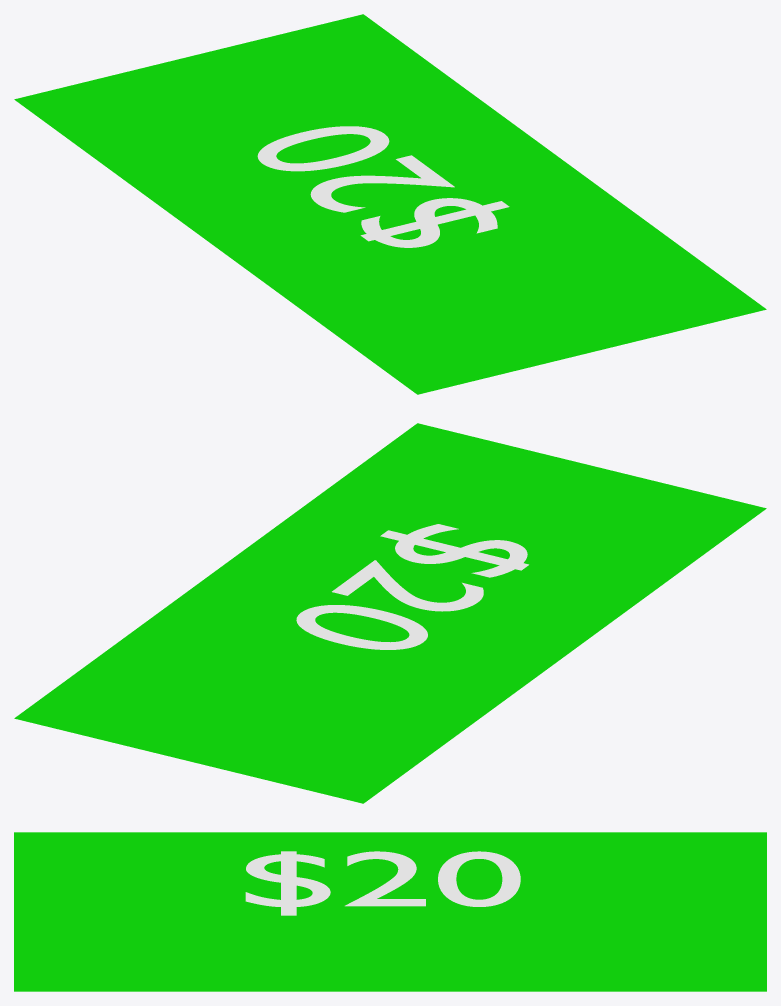
File: Twenty-Dollar Bill.fbx
3 views of the same model, one above another, from view 1: azimuth 30°, elevation 25°; view 2: azimuth 150°, elevation 25°; view 3: azimuth 270°, elevation 25° (orthographic). The views are drawn at different scales.
Parts seen in each view (by area): view 1: Plane, Text; view 2: Plane, Text; view 3: Plane, Text.
Part boxes in pixels (<box>): Plane: <box>14,14,766,394</box>; Text: <box>257,126,509,247</box>; Plane: <box>14,423,766,803</box>; Text: <box>296,524,528,649</box>; Plane: <box>14,832,766,991</box>; Text: <box>245,851,520,915</box>.
Size of the model in its own units: 2 by 0.14 by 4.
